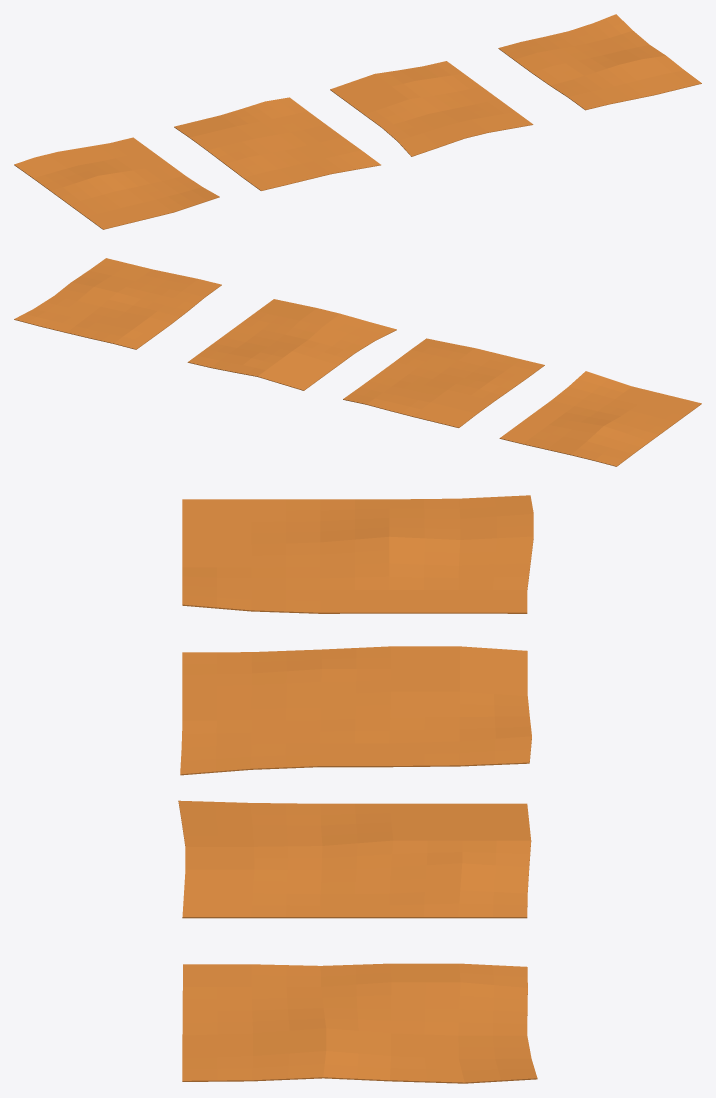
File: hojas.fbx
3 renders of one model, top to bottom at view 1: azimuth 30°, elevation 25°; view 2: azimuth 150°, elevation 25°; view 3: azimuth 270°, elevation 25°, orthographic. The views are drawn at different scales.
Visible parts, largest first — view 1: Cube.002; view 2: Cube.002; view 3: Cube.002.
Boxes of the visible parts, <box> form: Cube.002: <box>14,14,701,229</box>; Cube.002: <box>14,258,701,466</box>; Cube.002: <box>178,495,537,1083</box>.
Bounding box in the file's own units: 109 × 1.27 × 28.11.
